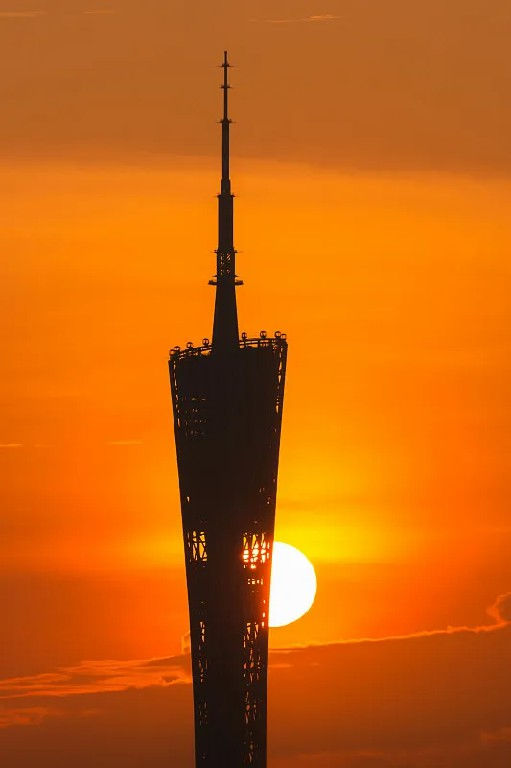Canton: (169, 50, 288, 768)
